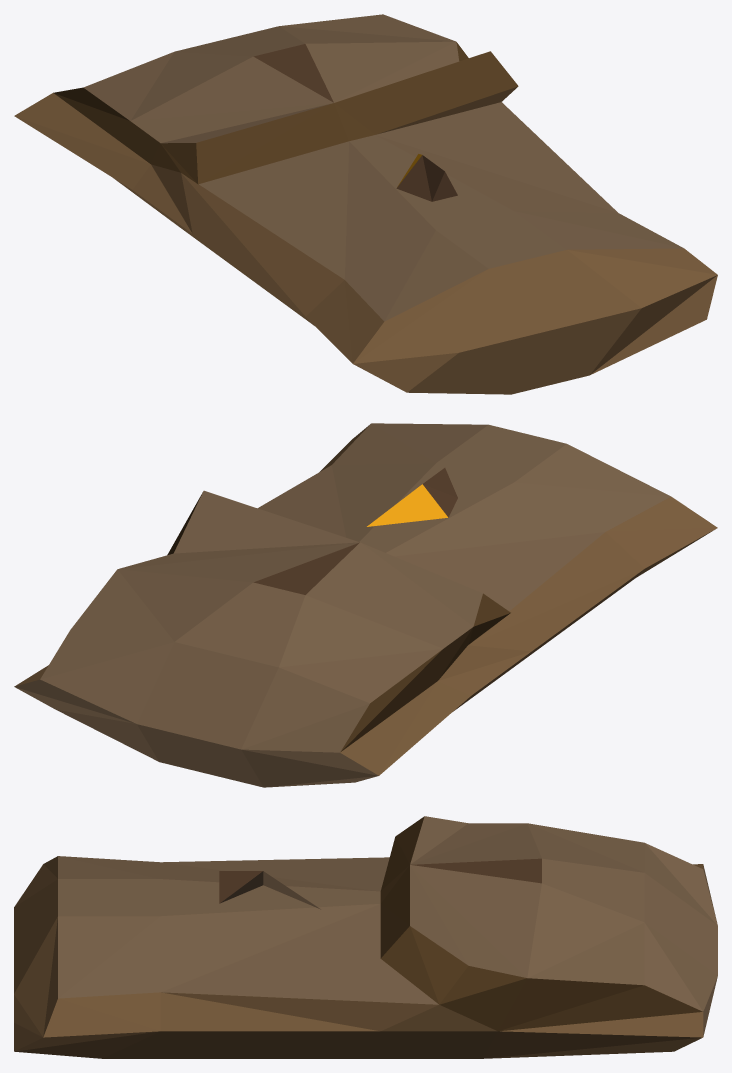
The model's file is bolt-pouch.gltf.
The picture shows the model from 3 angles, top to bottom: view 1: azimuth 30°, elevation 25°; view 2: azimuth 150°, elevation 25°; view 3: azimuth 270°, elevation 25°; orthographic projection. The views are drawn at different scales.
Size of the model in its own units: 28 by 13 by 48.
1 material, 1 textured.
